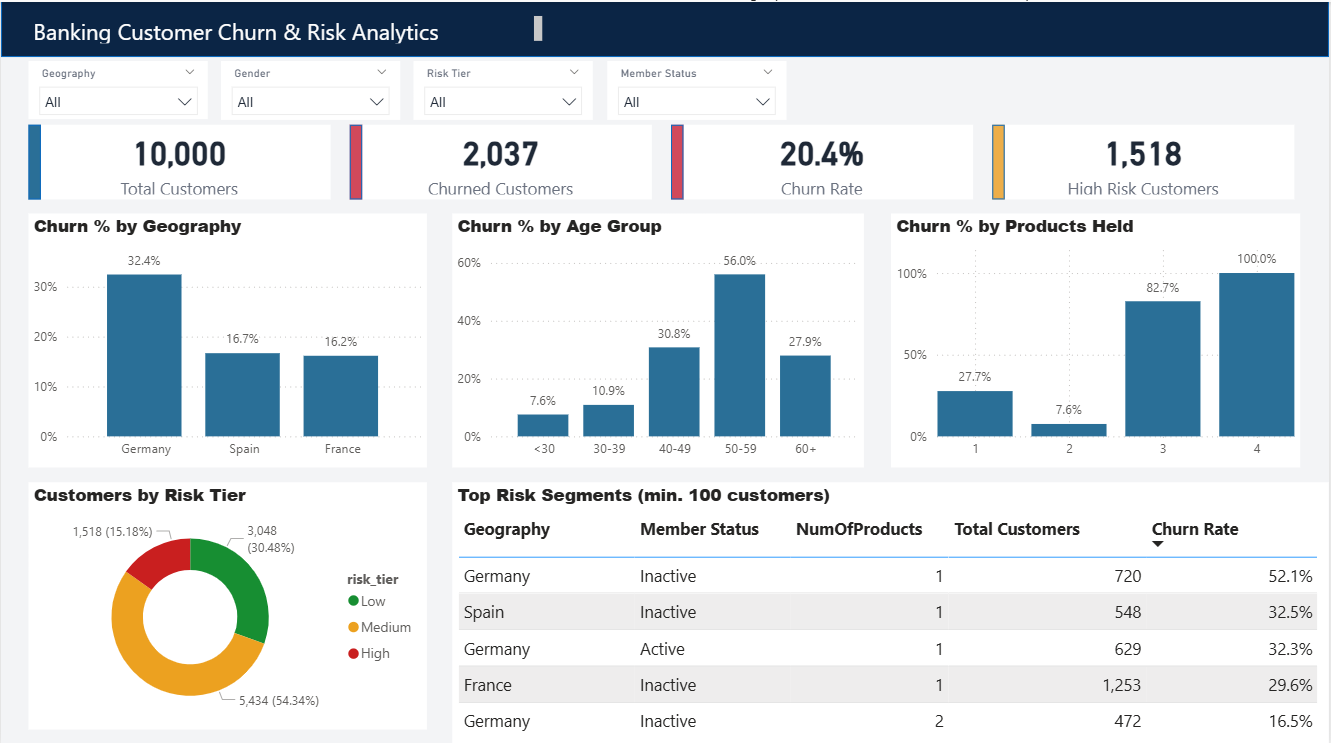

Layout of this report page (visuals, bound fields, positions):
{"tool":"powerbi","page":{"name":"Page 1","canvas":[1280,720],"ordinal":0},"visuals":[{"type":"clusteredColumnChart","title":"Churn % by Age Group","fields":{"Category":["Churn.age_group"],"Y":["Churn.Churn Rate"]},"box":[435,205,397,245],"z":0},{"type":"card","fields":{"Values":["Churn.Total Customers"]},"box":[26,119,291,72],"z":1000},{"type":"card","fields":{"Values":["Churn.Churned Customers"]},"box":[336,119,291,72],"z":2000},{"type":"card","fields":{"Values":["Churn.Churn Rate"]},"box":[646,119,291,72],"z":3000},{"type":"card","fields":{"Values":["Churn.High Risk Customers"]},"box":[956,119,291,72],"z":4000},{"type":"clusteredColumnChart","title":"Churn % by Geography","fields":{"Category":["Churn.Geography","Churn.age_group","Churn.NumOfProducts","Churn.Member Status"],"Y":["Churn.Churn Rate"]},"box":[26,205,384,245],"z":5000},{"type":"clusteredColumnChart","title":"Churn % by Products Held","fields":{"Category":["Churn.NumOfProducts"],"Y":["Churn.Churn Rate"]},"box":[858,205,394,245],"z":6000},{"type":"donutChart","title":"Customers by Risk Tier","fields":{"Category":["Churn.risk_tier"],"Y":["Churn.Total Customers"]},"box":[26,464,384,238],"z":7000},{"type":"tableEx","title":"Top Risk Segments (min. 100 customers)","fields":{"Values":["Churn.Geography","Churn.Member Status","Churn.NumOfProducts","Churn.Total Customers","Churn.Churn Rate"]},"box":[435.5,463.3,844.5,257],"z":8000},{"type":"shape","box":[0,0,1280,54],"z":9000},{"type":"textbox","box":[26.5,9.7,500,36.2],"z":10000},{"type":"shape","box":[26,119,12,72],"z":15000},{"type":"shape","box":[336,119,12,72],"z":16000},{"type":"shape","box":[646,119,12,72],"z":17000},{"type":"shape","box":[956,119,12,72],"z":18000},{"type":"slicer","fields":{"Values":["Churn.Geography"]},"box":[26,58,173,56],"z":18001},{"type":"slicer","fields":{"Values":["Churn.Gender"]},"box":[212,58,172.5,56.7],"z":18002},{"type":"slicer","fields":{"Values":["Churn.risk_tier"]},"box":[398,58,172.5,56.7],"z":18003},{"type":"slicer","fields":{"Values":["Churn.Member Status"]},"box":[584,58,172.5,56.7],"z":18004}]}

Visuals, with their boxes in screenshot pixels (x1, y1, x2, y2), scaled from the page's 1280x720 canvas onto the 1331x743 screenshot:
"Churn % by Age Group" clusteredColumnChart: bbox=[452, 212, 865, 464]
card - Churn.Total Customers: bbox=[27, 123, 330, 197]
card - Churn.Churned Customers: bbox=[349, 123, 652, 197]
card - Churn.Churn Rate: bbox=[672, 123, 974, 197]
card - Churn.High Risk Customers: bbox=[994, 123, 1297, 197]
"Churn % by Geography" clusteredColumnChart: bbox=[27, 212, 426, 464]
"Churn % by Products Held" clusteredColumnChart: bbox=[892, 212, 1302, 464]
"Customers by Risk Tier" donutChart: bbox=[27, 479, 426, 724]
"Top Risk Segments (min. 100 customers)" tableEx: bbox=[453, 478, 1330, 742]
shape: bbox=[0, 0, 1330, 56]
textbox: bbox=[28, 10, 547, 47]
shape: bbox=[27, 123, 40, 197]
shape: bbox=[349, 123, 362, 197]
shape: bbox=[672, 123, 684, 197]
shape: bbox=[994, 123, 1007, 197]
slicer - Churn.Geography: bbox=[27, 60, 207, 118]
slicer - Churn.Gender: bbox=[220, 60, 400, 118]
slicer - Churn.risk_tier: bbox=[414, 60, 593, 118]
slicer - Churn.Member Status: bbox=[607, 60, 787, 118]
